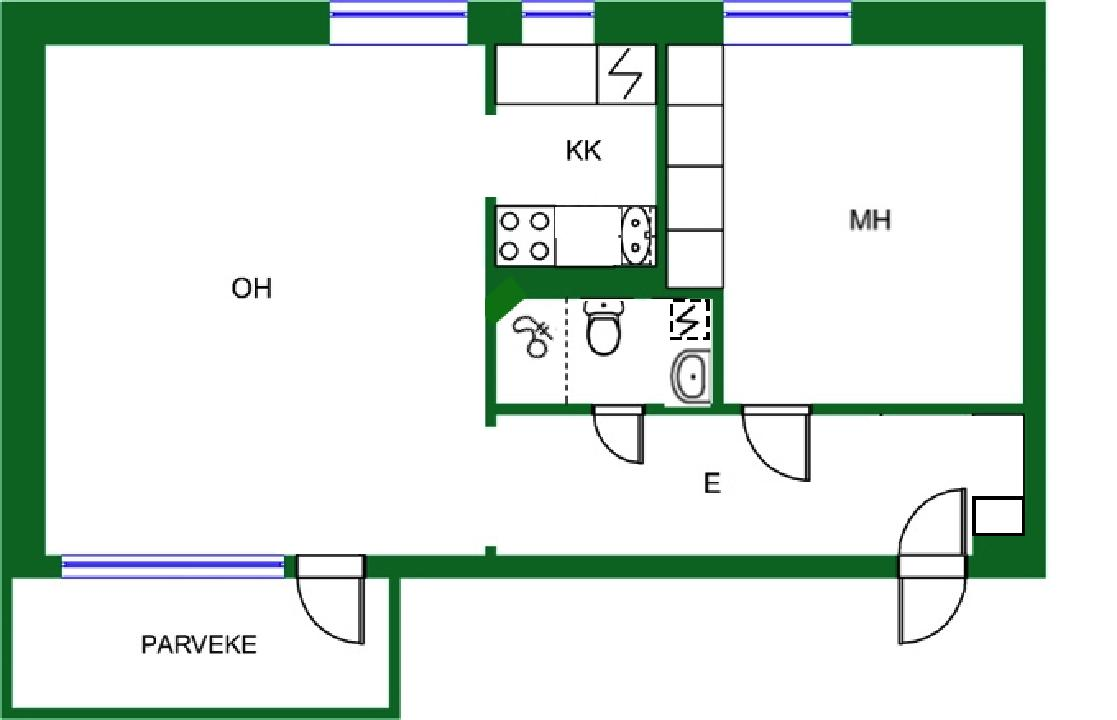door: (891, 483, 969, 652), (295, 546, 371, 648), (739, 399, 814, 484), (590, 406, 651, 468)
window: (331, 3, 471, 48), (723, 1, 854, 47), (58, 554, 287, 577), (519, 2, 596, 48)
zone: (45, 42, 1021, 551), (664, 38, 1023, 405), (11, 574, 388, 708), (496, 43, 655, 264), (498, 283, 713, 402)
